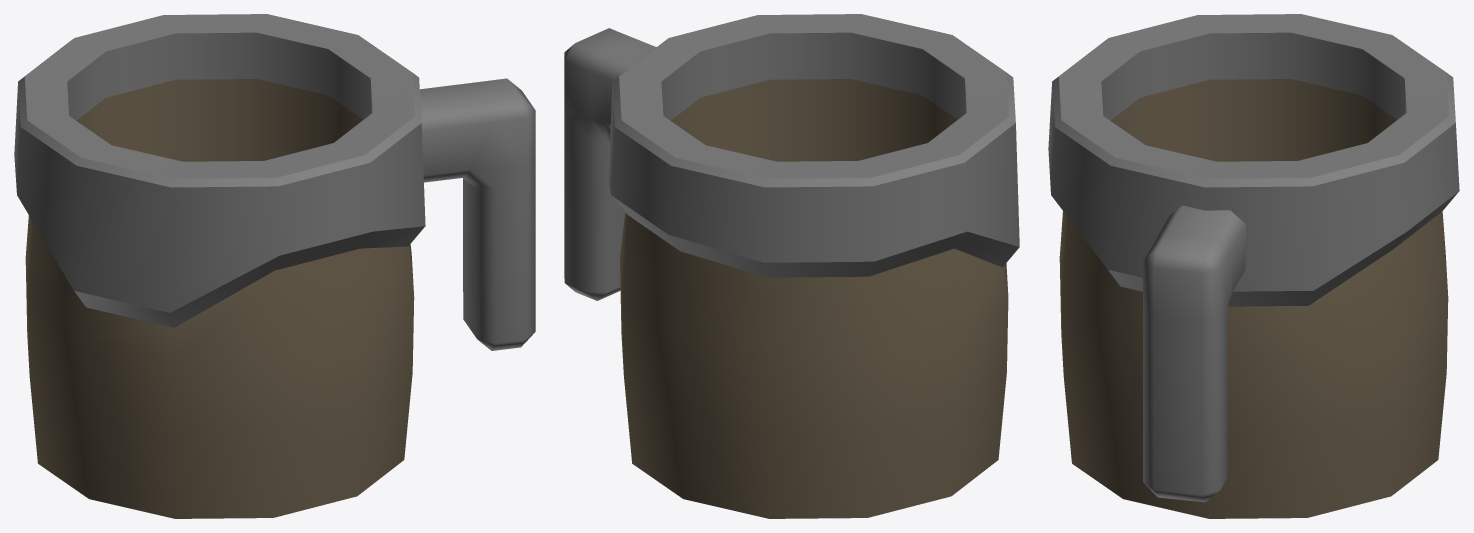
File: SM_Mug.fbx
The picture shows the model from 3 angles, left to right: view 1: azimuth 30°, elevation 25°; view 2: azimuth 150°, elevation 25°; view 3: azimuth 270°, elevation 25°; orthographic projection.
Parts seen in each view (by area): view 1: pCylinder3; view 2: pCylinder3; view 3: pCylinder3.
Boxes of the visible parts, x1,y1,x2,y2 form: pCylinder3: (14, 14, 535, 518); pCylinder3: (564, 14, 1019, 518); pCylinder3: (1048, 14, 1459, 518).
Size of the model in its own units: 31.88 by 23.13 by 25.01.
